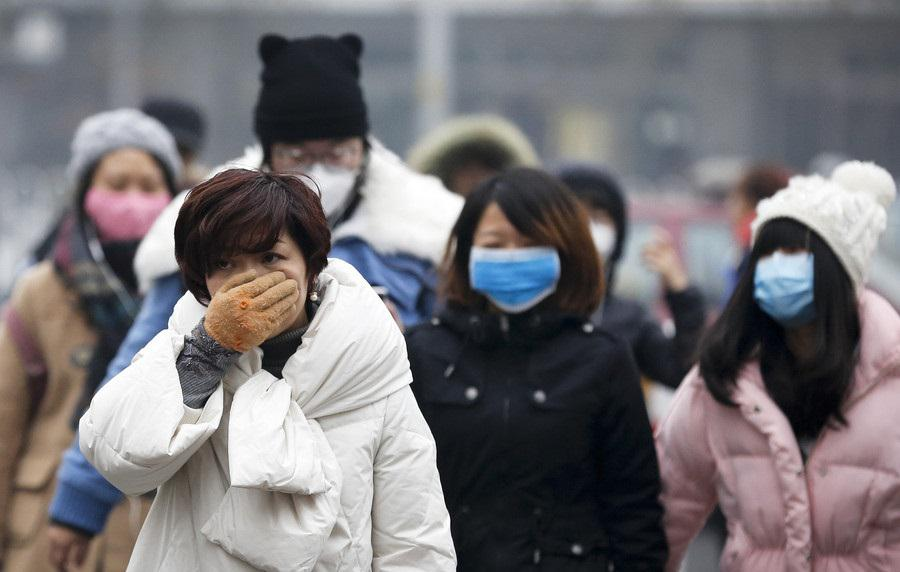NONE: (202, 235, 308, 341)
OK: (266, 135, 364, 233), (473, 224, 566, 317), (747, 233, 832, 318), (89, 163, 176, 241)
